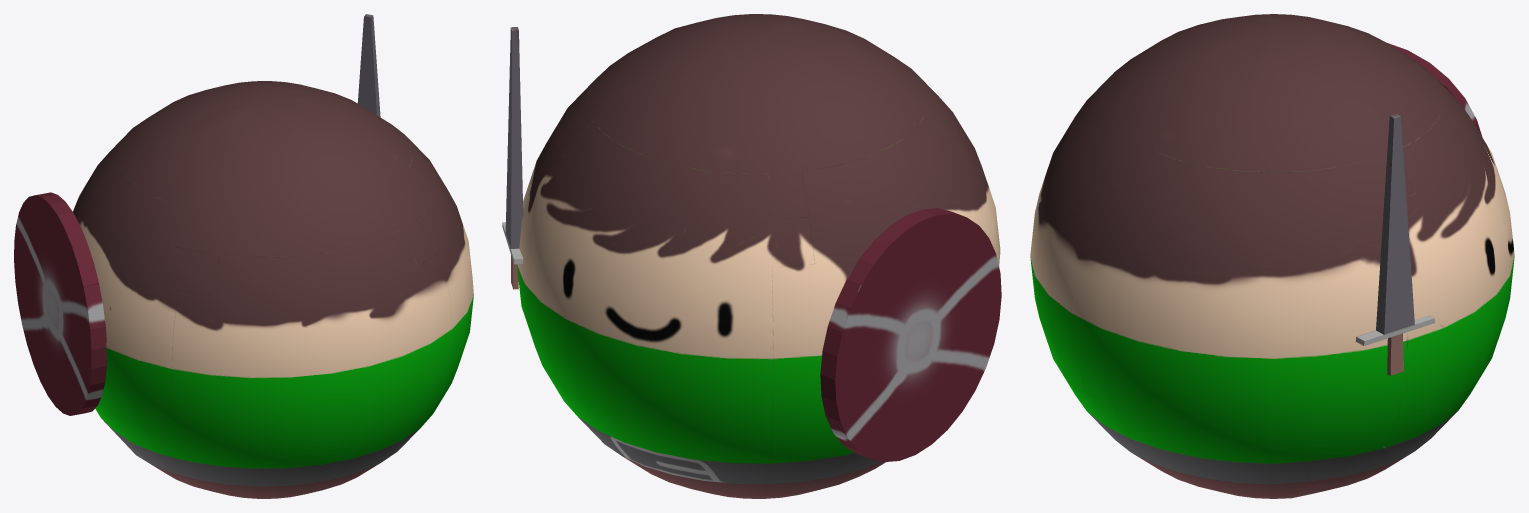
Rendered from Hero.fbx.
The picture shows the model from 3 angles, left to right: view 1: azimuth 30°, elevation 25°; view 2: azimuth 150°, elevation 25°; view 3: azimuth 270°, elevation 25°; orthographic projection. The views are drawn at different scales.
Parts seen in each view (by area): view 1: Sphere; view 2: Sphere; view 3: Sphere.
Boxes of the visible parts, left/top/right/bottom form: Sphere: left=14, top=14, right=473, bottom=498; Sphere: left=502, top=14, right=1001, bottom=498; Sphere: left=1030, top=14, right=1514, bottom=498.
Bounding box in the file's own units: 206 × 204 × 199.
